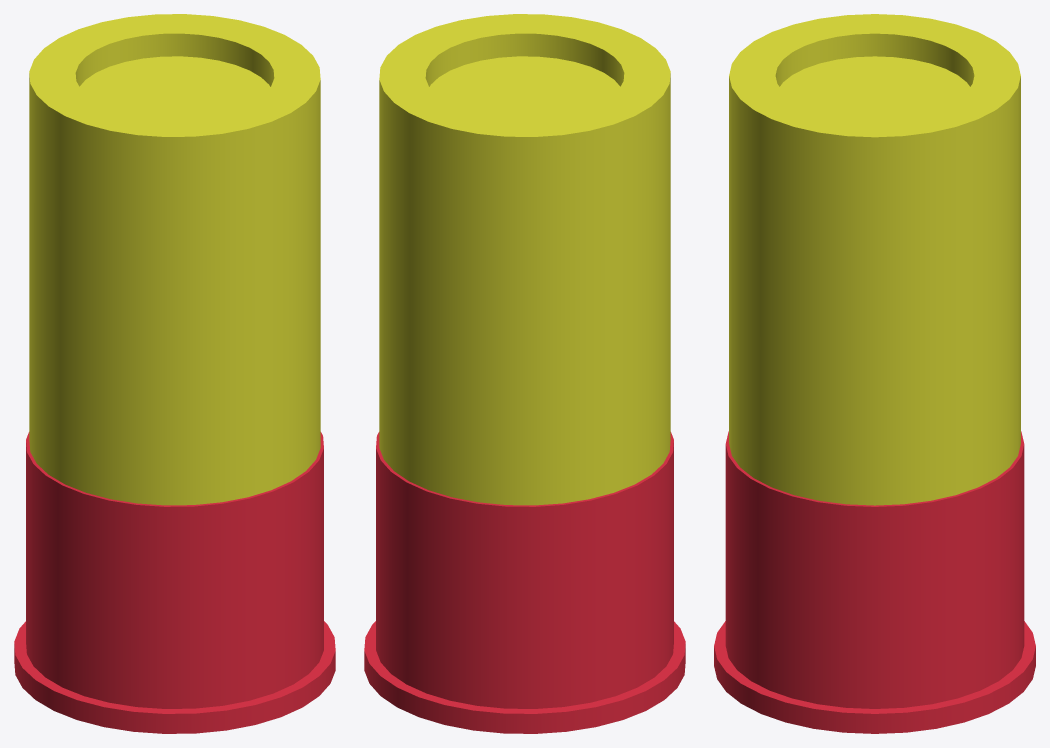
The model's file is ShotGun.fbx.
3 renders of one model, left to right at view 1: azimuth 30°, elevation 25°; view 2: azimuth 150°, elevation 25°; view 3: azimuth 270°, elevation 25°, orthographic.
Parts seen in each view (by area): view 1: Cylinder; view 2: Cylinder; view 3: Cylinder.
Boxes of the visible parts, x1=… form: Cylinder: x1=14, y1=14, x2=335, y2=733; Cylinder: x1=364, y1=14, x2=685, y2=733; Cylinder: x1=714, y1=14, x2=1035, y2=733.
Size of the model in its own units: 200 by 405 by 200.
